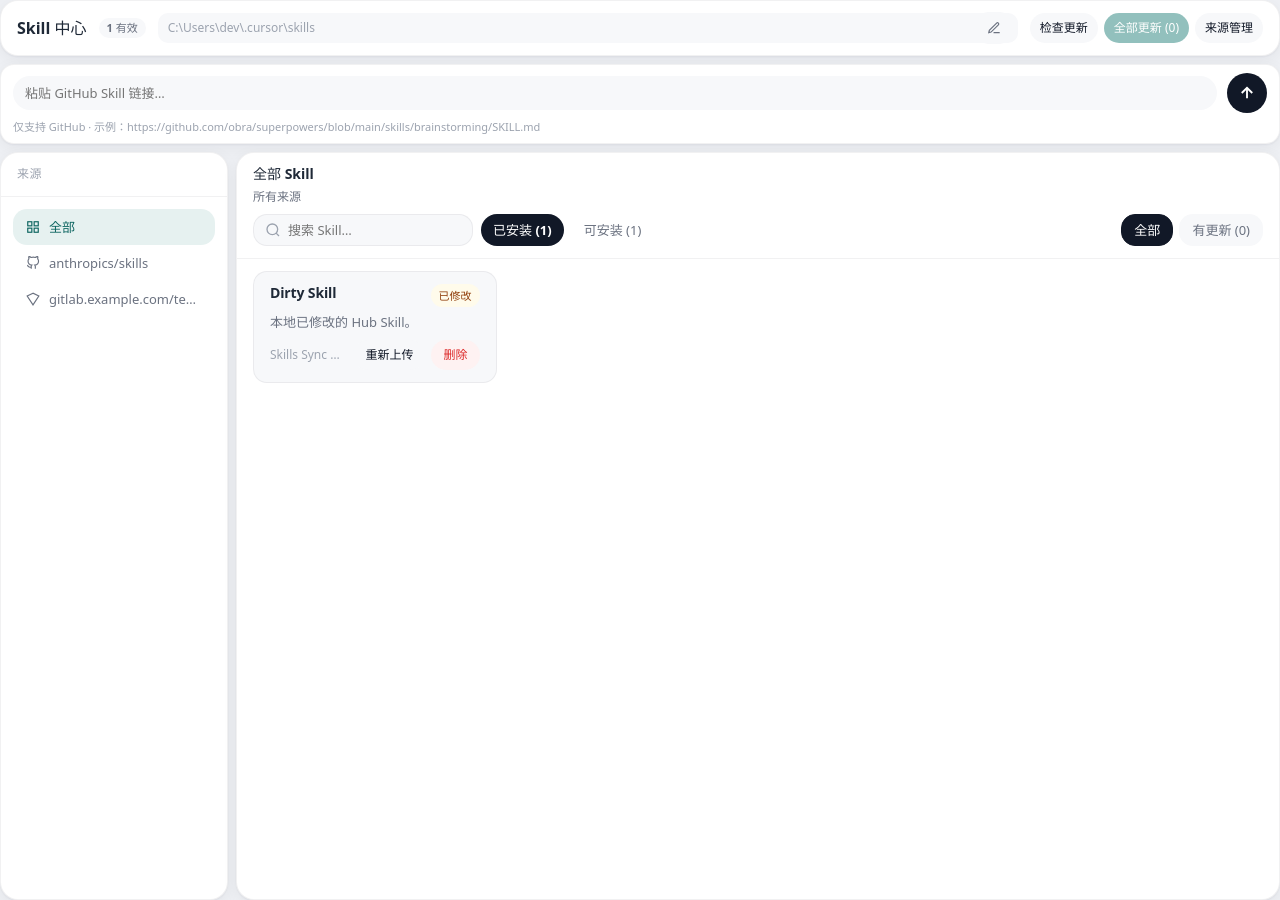
Test: SkillHubPage › does not upload when reupload confirm is cancelled
Expected: the text "本地已修改的 Hub Skill。" is shown, [270,314,418,332]
Click the button "重新上传".
click(390, 355)  # box [354,340,426,370]
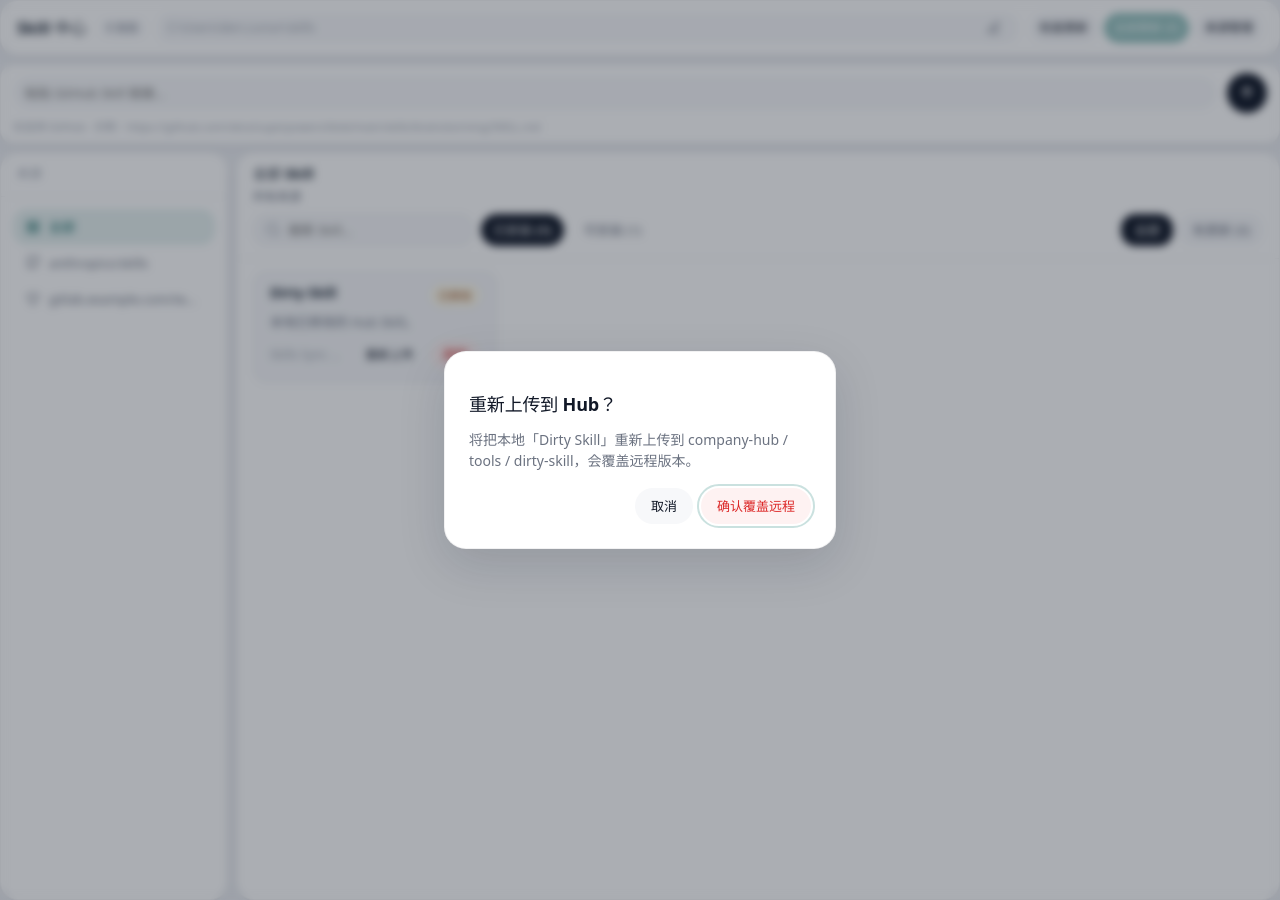
Expected: the dialog "重新上传到 Hub？" is shown, [444,351,836,549]
Click the button "取消".
click(664, 506)  # box [635,488,693,524]
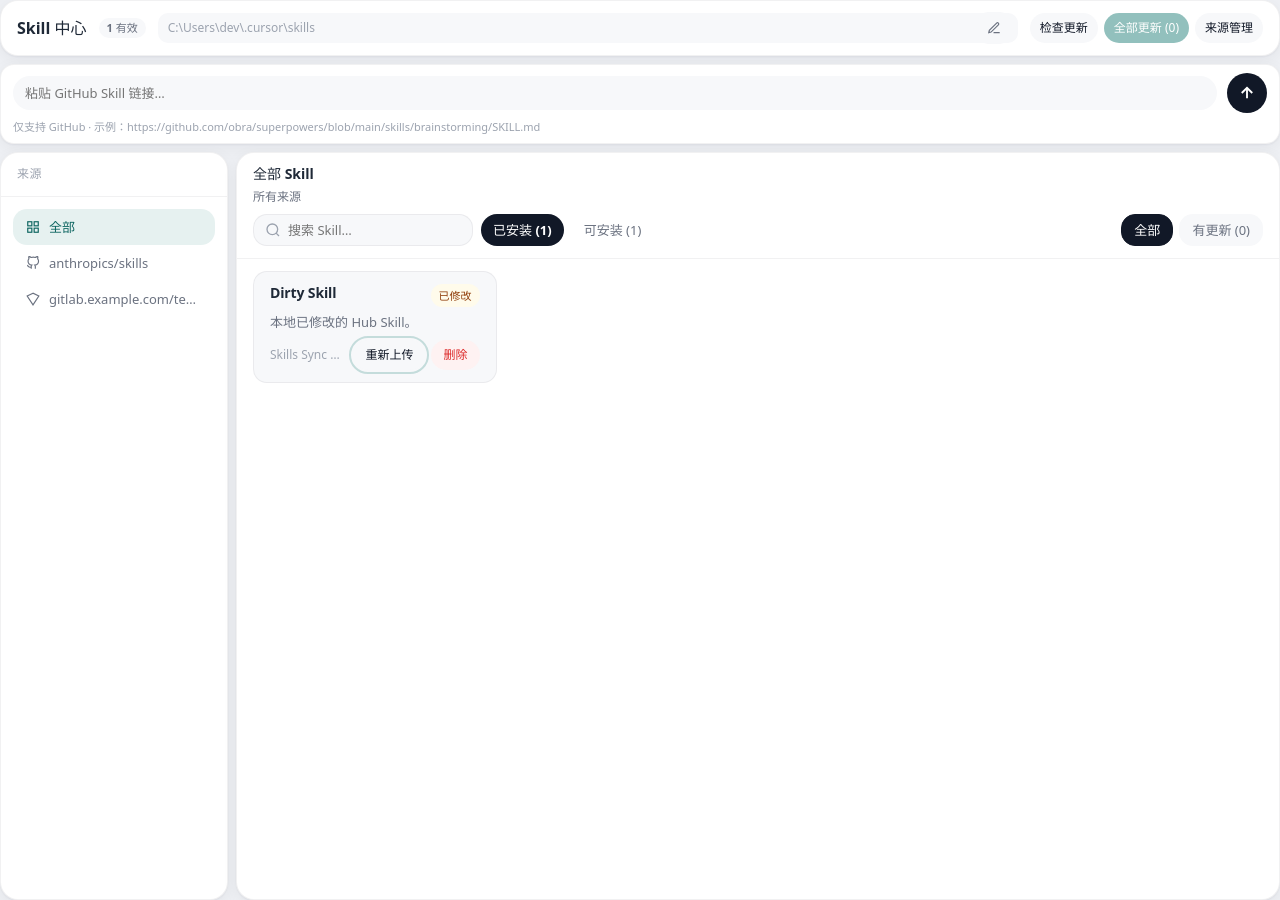
Expected: the heading "重新上传到 Hub？" is gone
